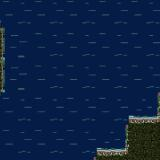Interaction: (88, 145, 140, 160), (120, 108, 140, 145), (140, 108, 160, 130)
Slow: (0, 1, 95, 160), (95, 0, 126, 148), (127, 0, 159, 114)
